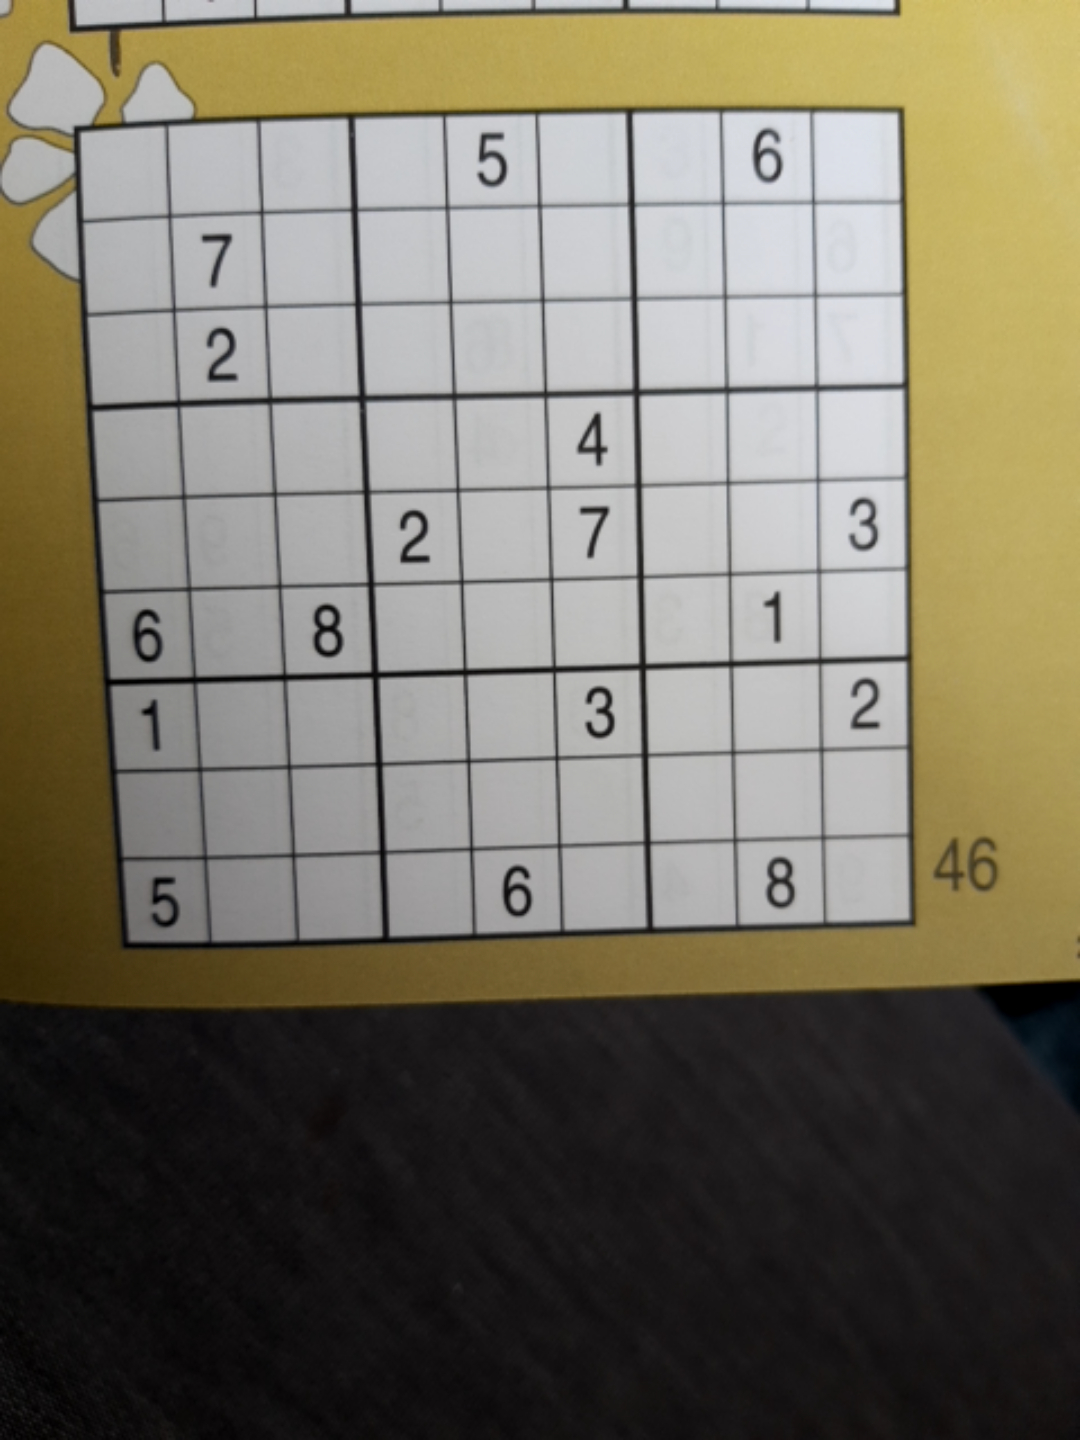sudoku: (66, 100, 916, 951)
